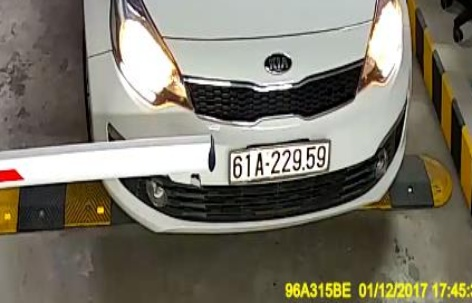plate: (222, 145, 333, 180)
